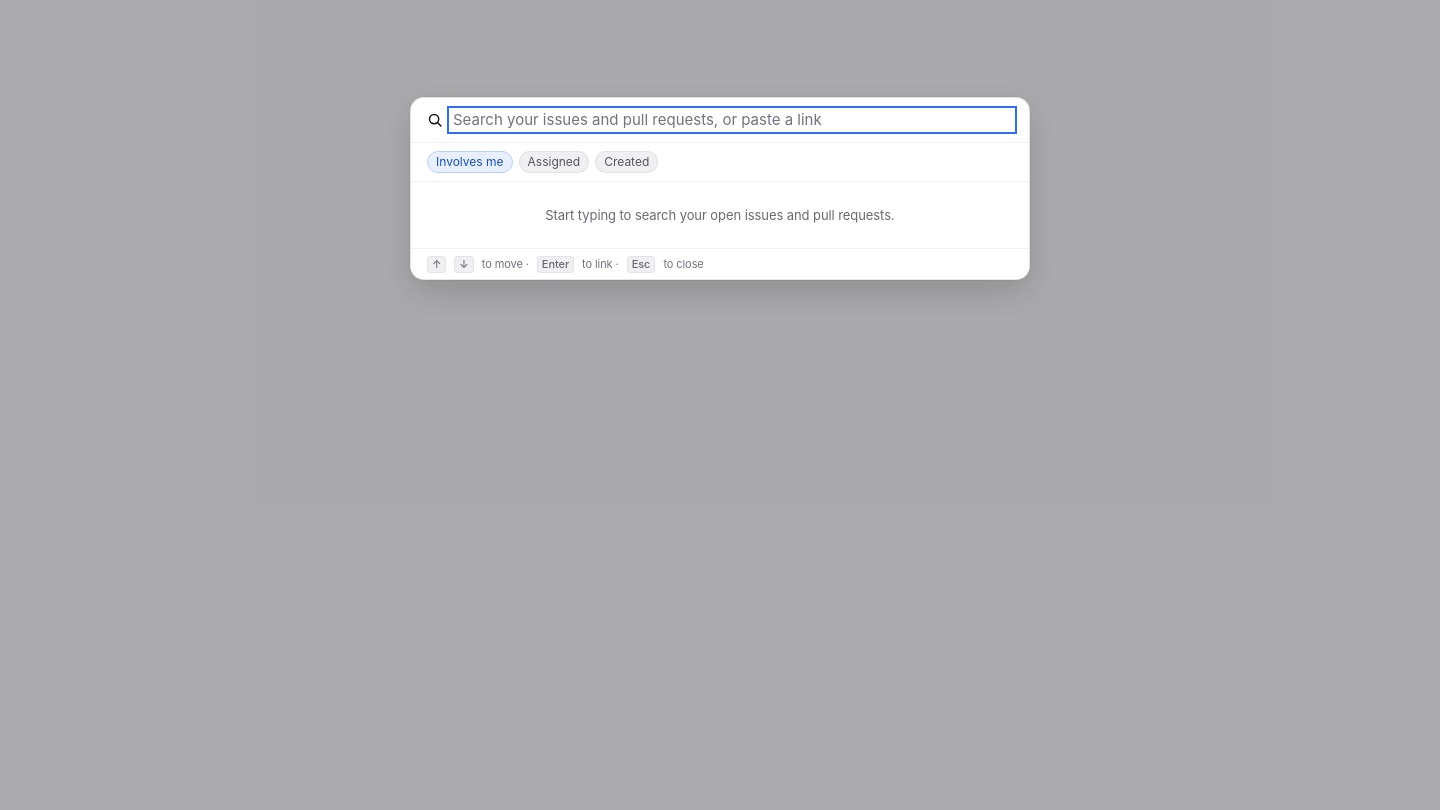
Test case: GithubPickerOverlay › shows why a search failed
expect the dialog with test id "gh-picker" is shown: met, box [410,97,1030,280]
Type "x" into the field named "Search GitHub".
click(732, 120); type("x")  # box [451,110,1013,130]
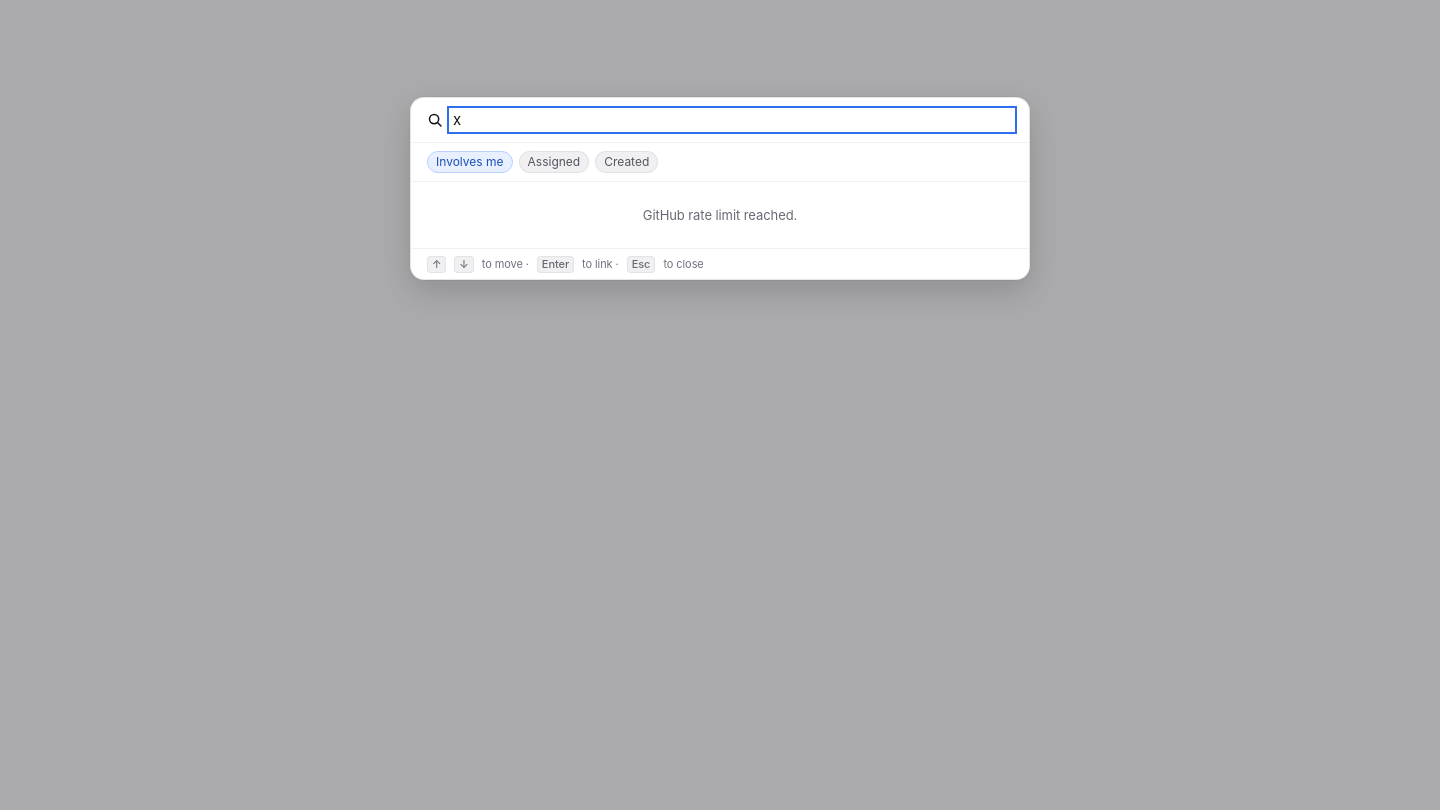
expect the message with test id "gh-picker-error" reads "GitHub rate limit reached.": met, box [643,207,797,223]
